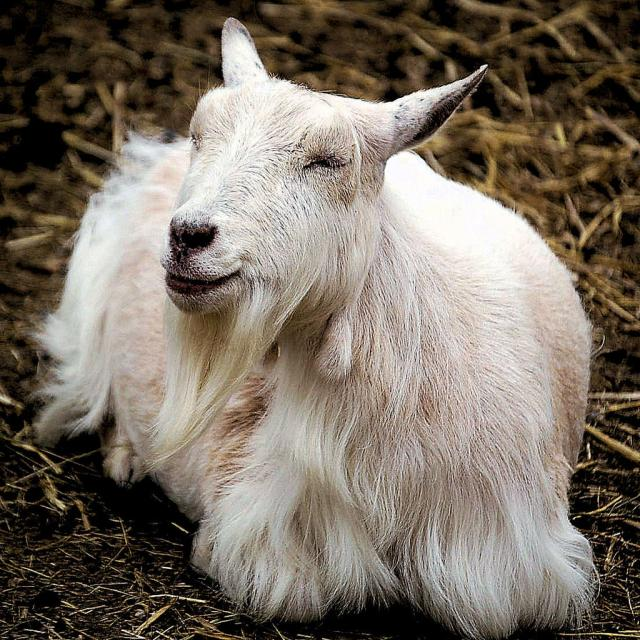Goat: (25, 15, 601, 640)
